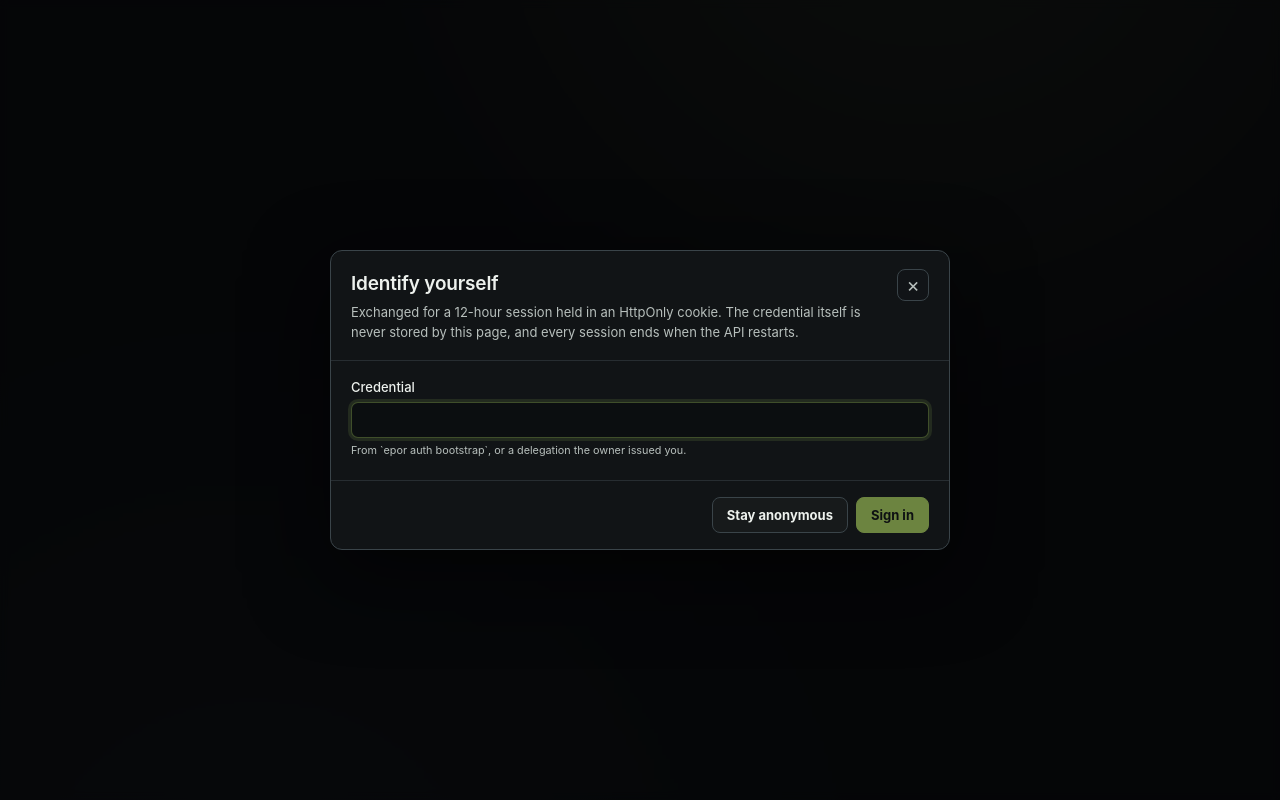
Test case: session exchange › reports a rejected credential without echoing it
Type "wrong-token" into the password field labelled "Credential".
click(640, 420); type("wrong-token")  # box [351,402,929,438]
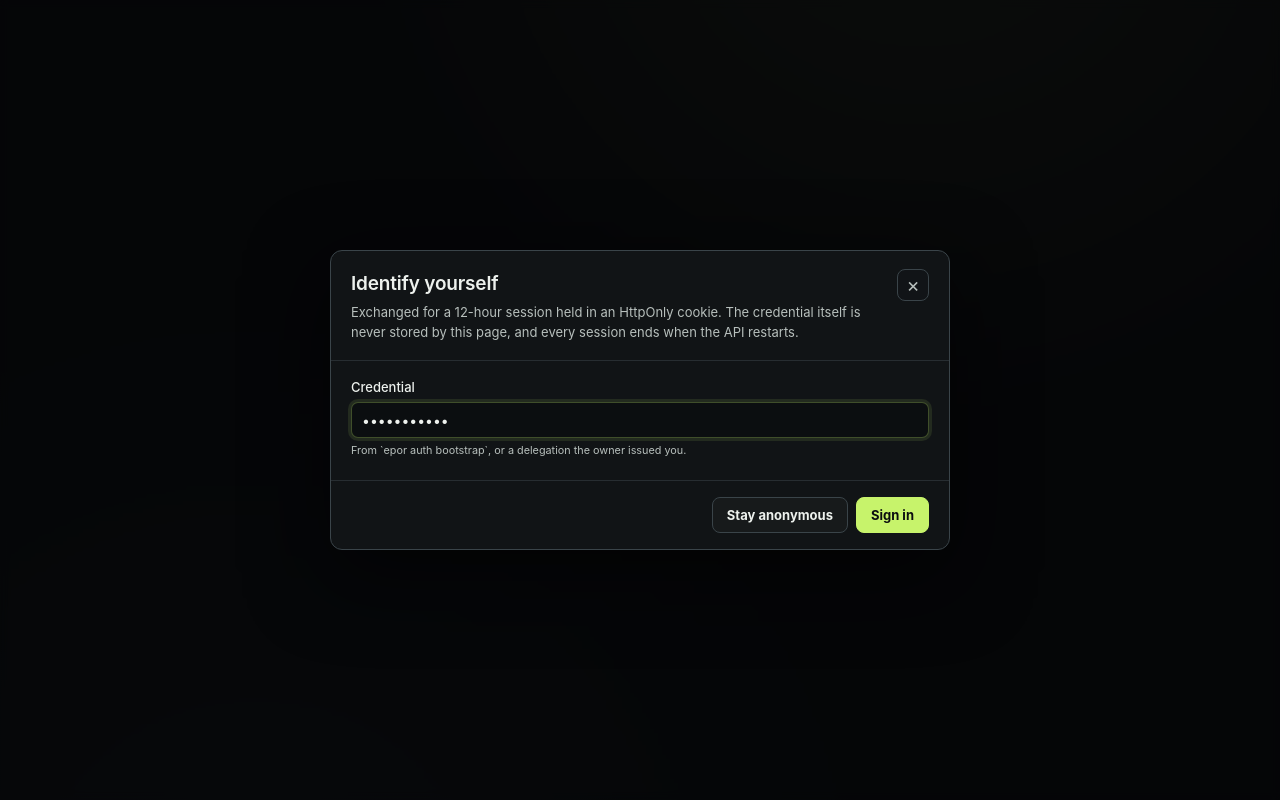
Click the button "Sign in".
click(892, 515)  # box [856,497,929,533]
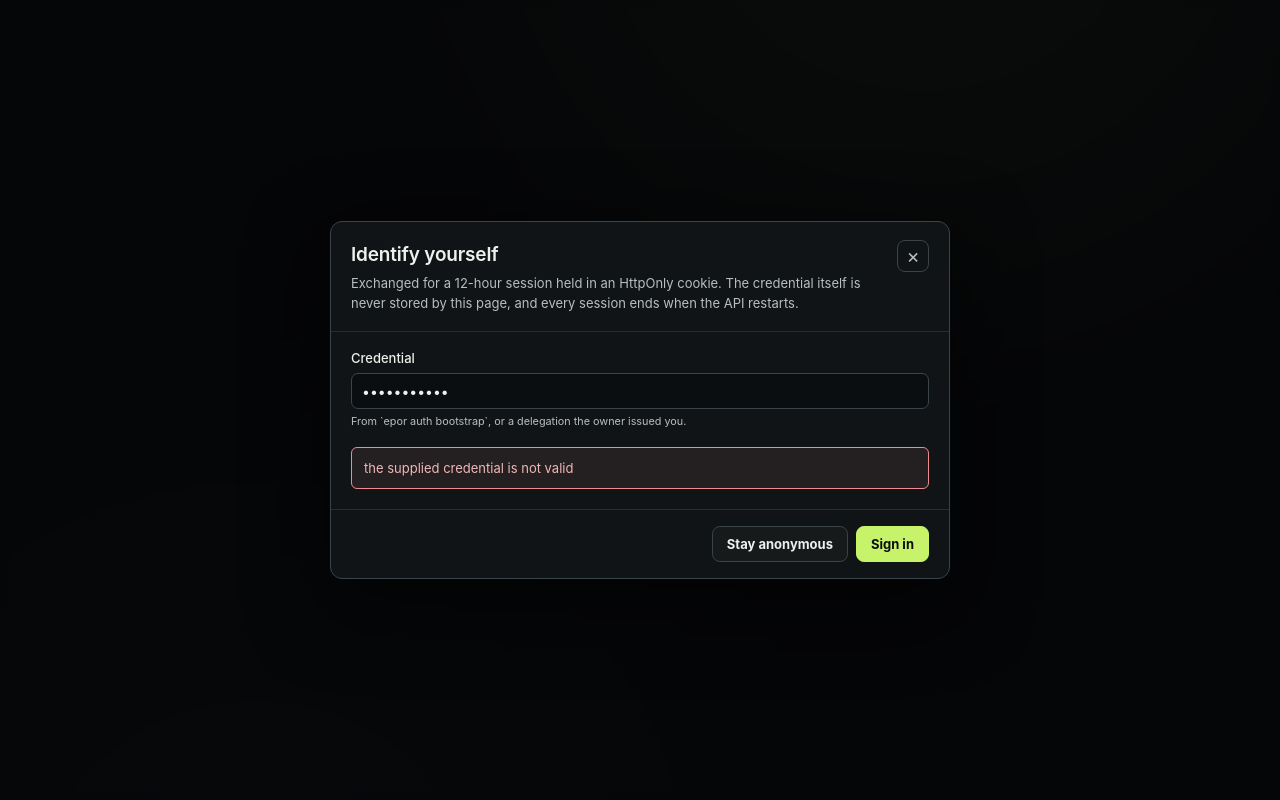
Now the text "the supplied credential is not valid" is shown, box [351,447,929,489]
